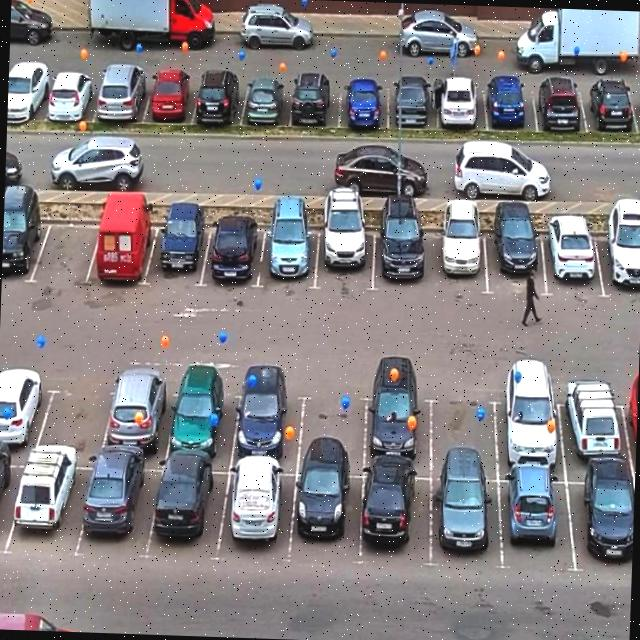empty: (38, 369, 123, 461), (292, 372, 370, 466), (430, 386, 499, 474), (33, 216, 100, 286)
occupied: (72, 461, 162, 561), (147, 458, 234, 556), (12, 451, 92, 553), (496, 465, 571, 572), (422, 474, 508, 566), (213, 466, 297, 560), (288, 470, 371, 562), (361, 375, 435, 472), (358, 471, 434, 562), (102, 368, 174, 463), (566, 470, 634, 570), (556, 382, 628, 473), (230, 370, 301, 462), (166, 374, 239, 458), (494, 378, 558, 464), (84, 214, 158, 286), (364, 218, 430, 298), (142, 216, 212, 289), (0, 358, 53, 453), (478, 220, 546, 293), (423, 217, 488, 290), (200, 216, 265, 289), (538, 222, 600, 298), (522, 72, 586, 143), (90, 54, 151, 128), (312, 220, 376, 290), (141, 55, 201, 128), (258, 220, 320, 288), (41, 59, 99, 128), (234, 64, 292, 132), (286, 67, 342, 136), (478, 76, 536, 142), (378, 69, 434, 137), (6, 44, 49, 130), (1, 202, 46, 284), (430, 66, 484, 134), (191, 69, 244, 138), (597, 215, 640, 299), (338, 66, 390, 134), (576, 78, 632, 141)
